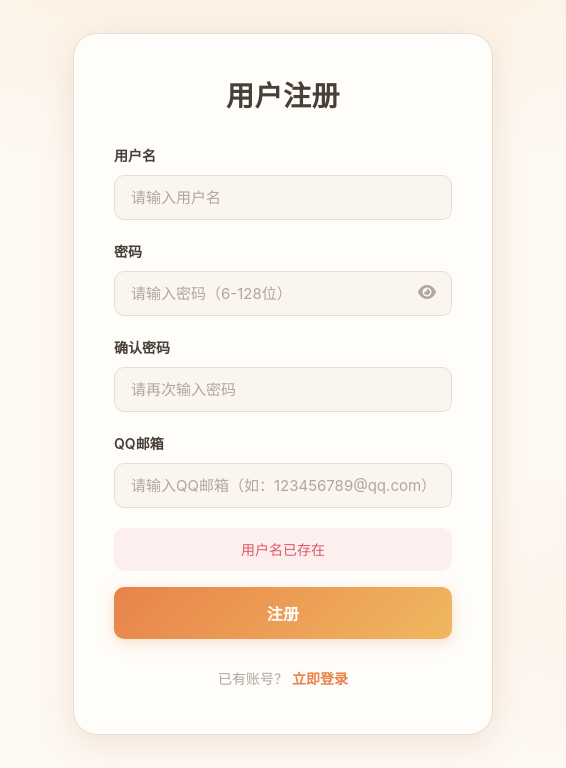
Test: Register error feedback › shows only the field validation error when stale server error also exists
Type "password123" into the password field labelled "密码" at (283, 293), box [114,271,452,316]
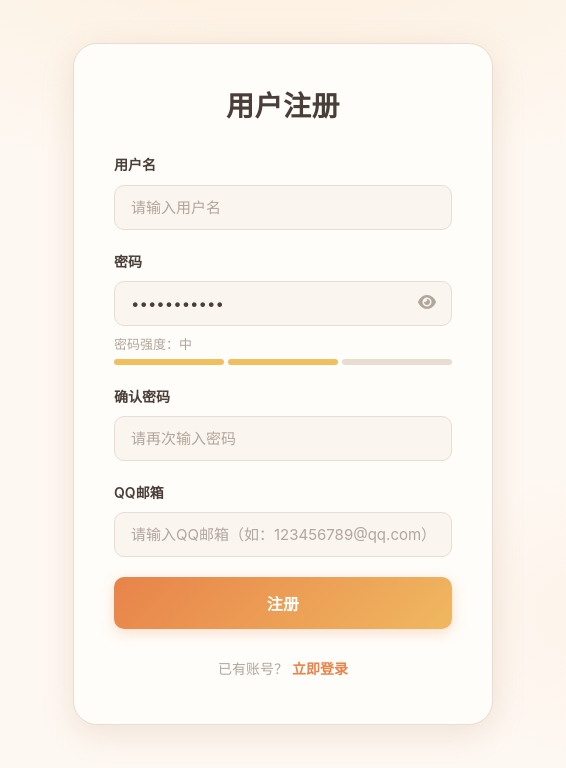
Type "different" into the password field with id "confirmPassword" at (283, 439), box [114,416,452,461]
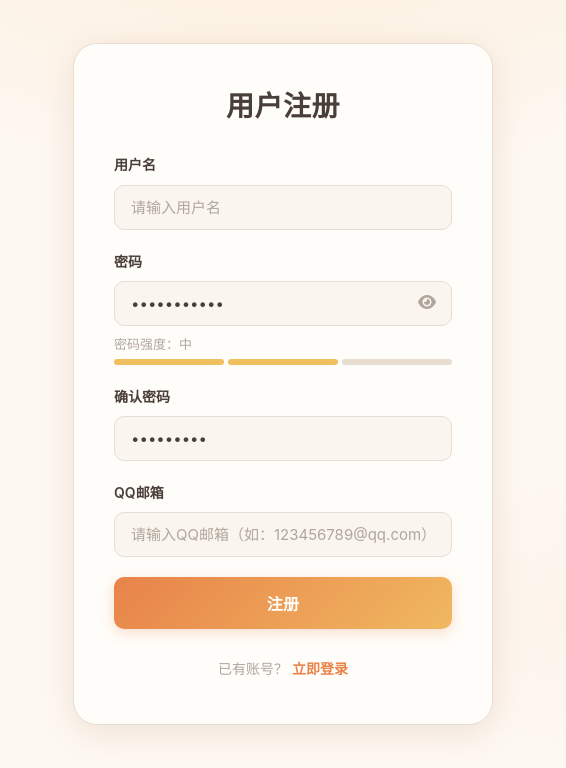
Submit the form, box [114,153,452,629]
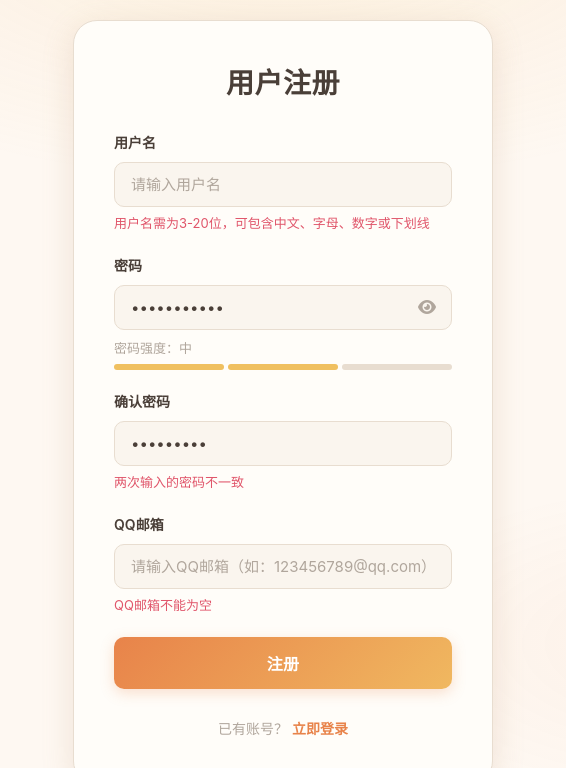
Check: the text with id "confirmPassword-error" reads "两次输入的密码不一致", box [114,474,244,490]
